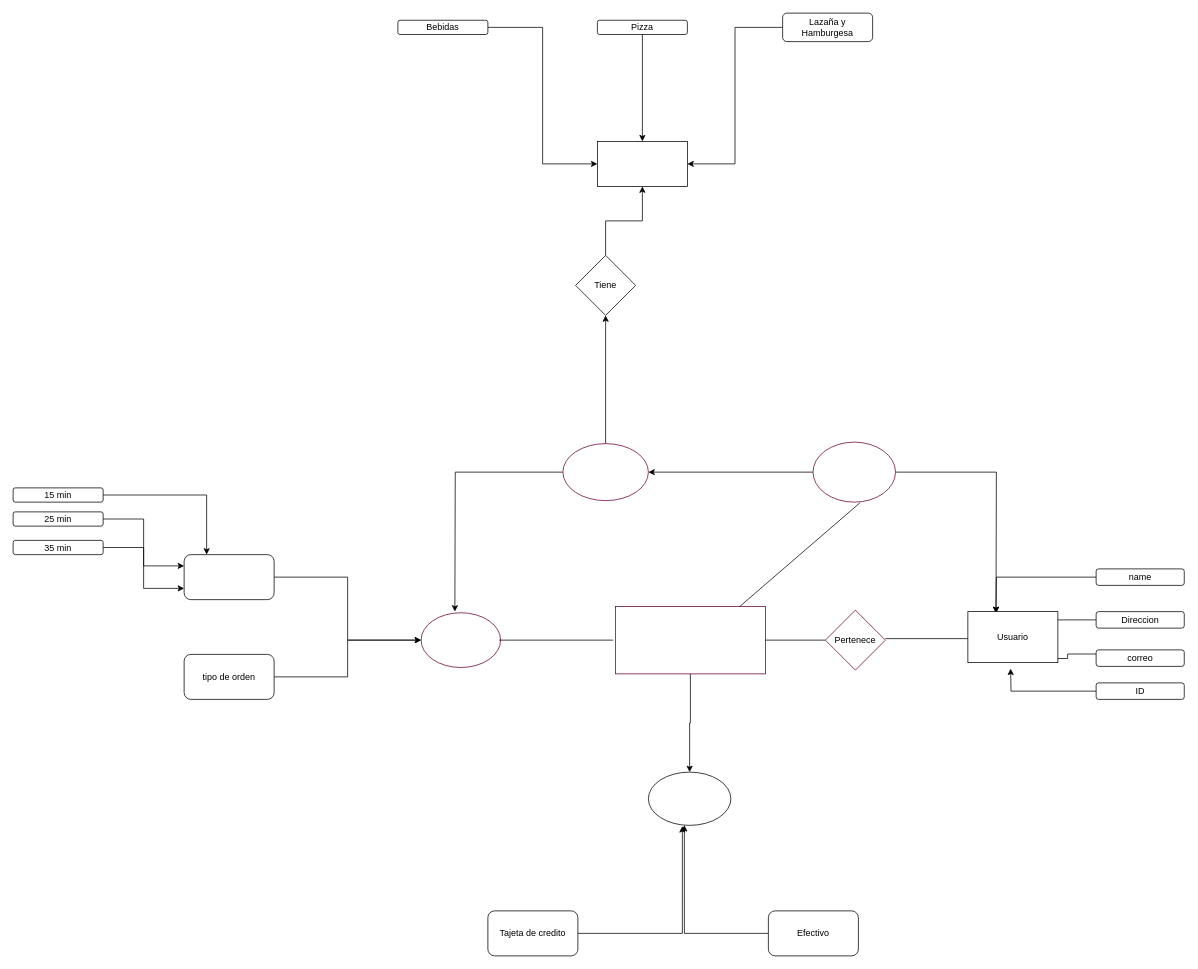
This 1198x969 diagram has some shape labels left out. Here are the shapes that lost their labels. From the top down, the box of each, then its label:
(597, 141, 687, 186): Preparaiones
(562, 443, 648, 501): Menu
(812, 441, 896, 502): login
(183, 554, 274, 600): Tiempo de Preparaion
(420, 612, 501, 668): Pedidos
(615, 606, 765, 674): Carbonaras APP
(648, 771, 731, 825): metodos pago
